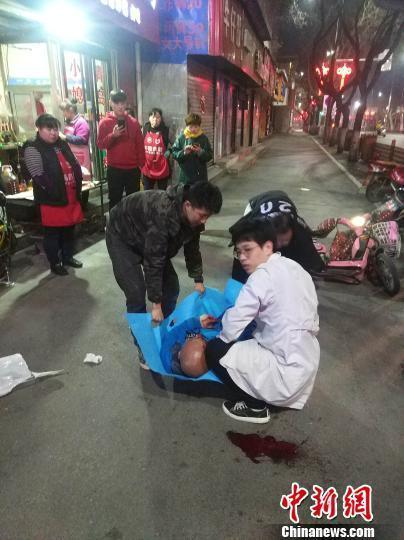Fall-Detected: (155, 263, 235, 380)
